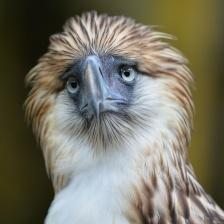bird: (24, 11, 223, 223)
